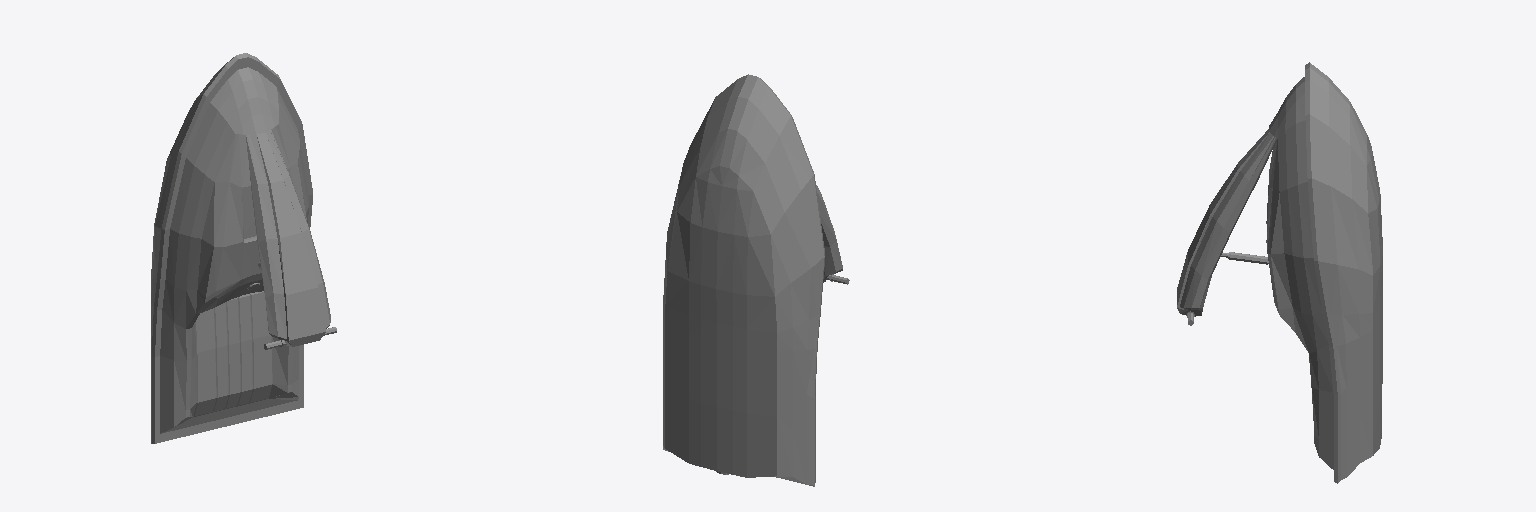
Rendered from jetski.obj.
3 views of the same model, side by side, from view 1: azimuth 30°, elevation 25°; view 2: azimuth 150°, elevation 25°; view 3: azimuth 270°, elevation 25° (orthographic).
Visible parts, largest first — view 1: jetski; view 2: jetski; view 3: jetski.
Boxes of the visible parts, x1,y1,x2,y2 form: jetski: [151, 53, 336, 443]; jetski: [663, 74, 849, 486]; jetski: [1177, 62, 1382, 483].
Bounding box in the file's own units: 4.43 × 10.71 × 5.23.